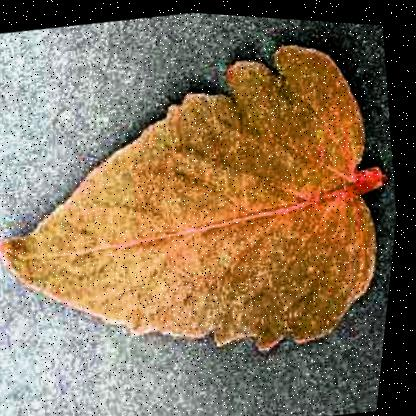Healthy: (0, 9, 414, 405)
